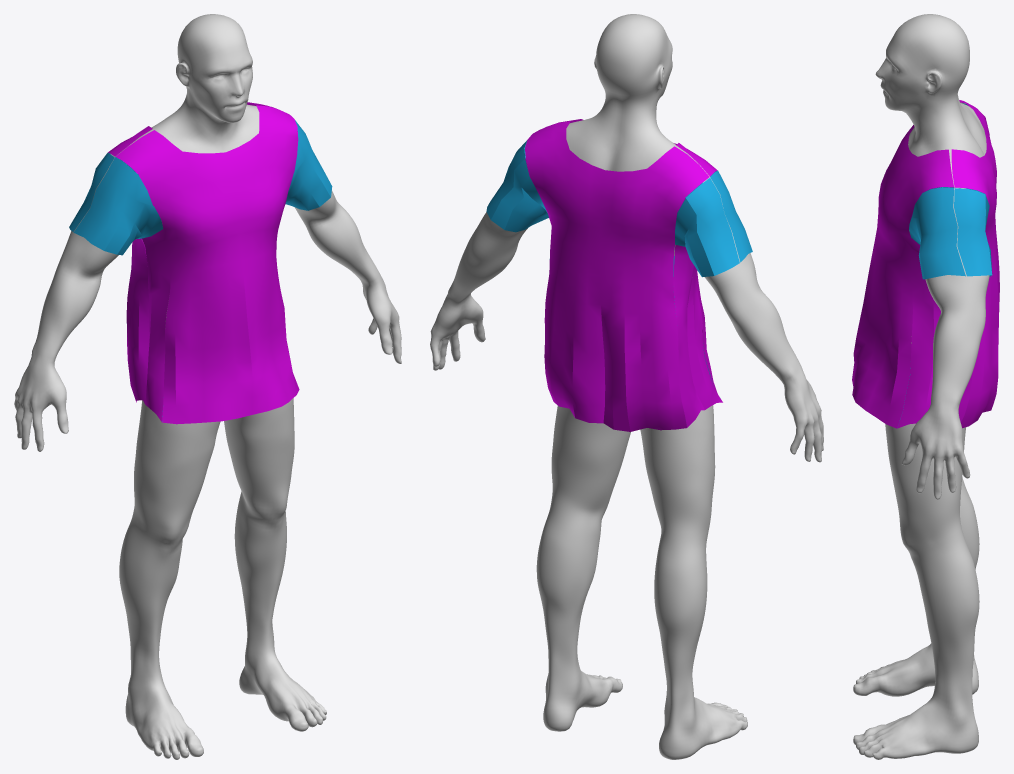
Rendered from Shirtsleeves.fbx.
3 views of the same model, side by side, from view 1: azimuth 30°, elevation 25°; view 2: azimuth 150°, elevation 25°; view 3: azimuth 270°, elevation 25° (orthographic).
Parts seen in each view (by area): view 1: FinalBaseMesh, Plane; view 2: FinalBaseMesh, Plane; view 3: FinalBaseMesh, Plane.
Boxes of the visible parts, x1=… form: FinalBaseMesh: x1=14, y1=14, x2=401, y2=759; Plane: x1=69, y1=102, x2=332, y2=424; FinalBaseMesh: x1=430, y1=14, x2=823, y2=759; Plane: x1=486, y1=119, x2=752, y2=431; FinalBaseMesh: x1=853, y1=14, x2=989, y2=759; Plane: x1=852, y1=100, x2=999, y2=428.
Bounding box in the file's own units: 390 × 692 × 132.
